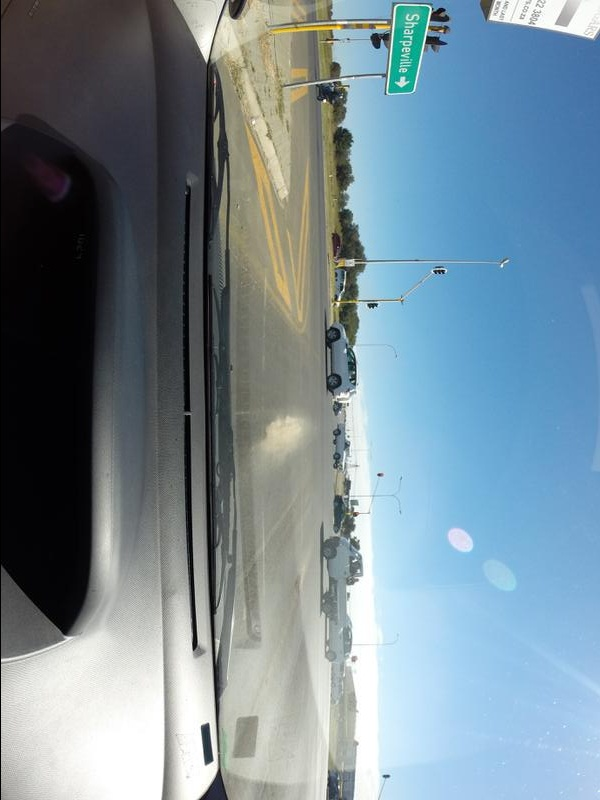pothole: (296, 575, 304, 598)
